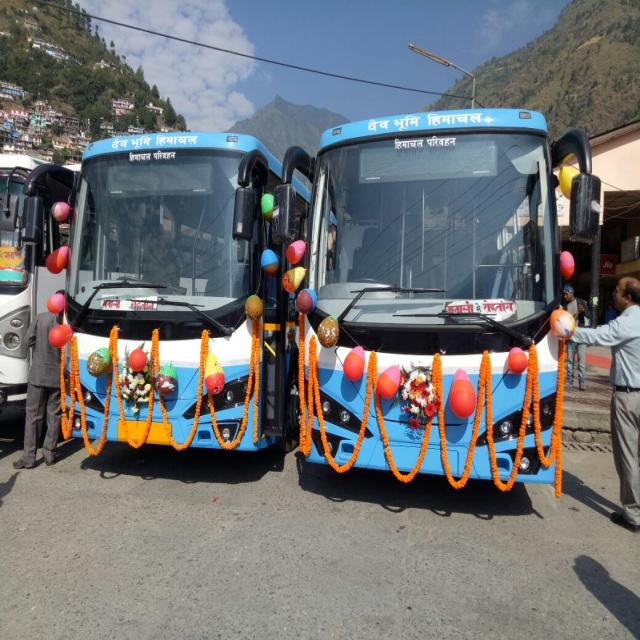bus: (274, 108, 600, 494), (22, 133, 299, 453)
